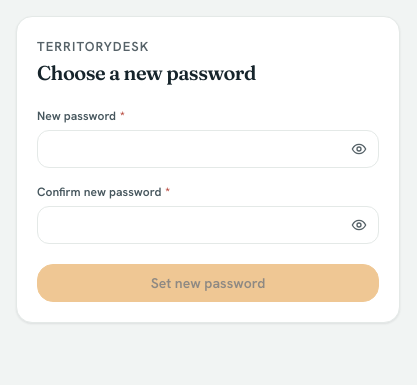
Test: N3C-15/C-70: reset confirm-password validates on blur + submit › N3C-15/C-70: the error clears while typing once the values agree again
This screenshot has width=417, height=385.
Type "correct-horse-battery" into the password field labelled "New password".
click(208, 149); type("correct-horse-battery")  # box [37,130,379,168]
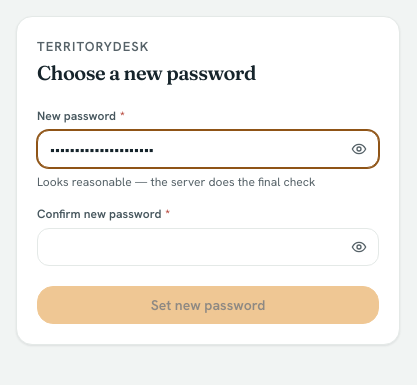
Type "correct-horse" into the password field labelled "Confirm new password".
click(208, 247); type("correct-horse")  # box [37,228,379,266]
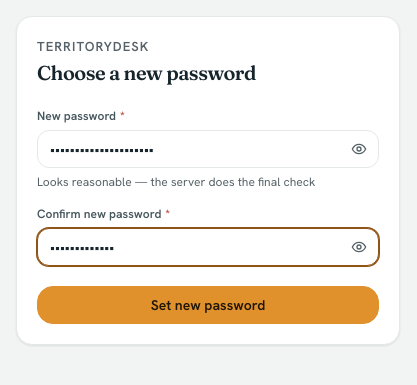
Leave the password field labelled "Confirm new password", box [37,228,379,266]
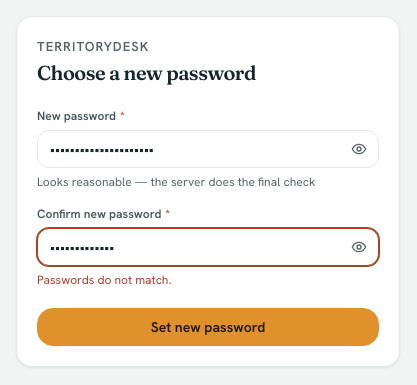
Expected: the text "Passwords do not match." is shown, [37,272,171,288]
Type "-battery" into the password field labelled "Confirm new password".
click(208, 247); type("-battery")  # box [37,228,379,266]
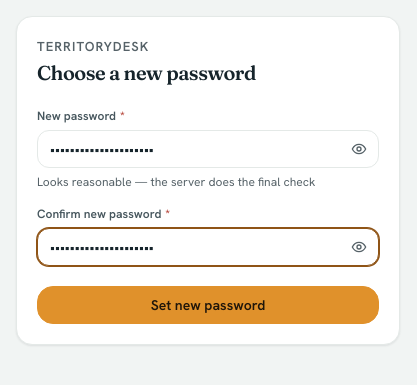
Expected: the text "Passwords do not match." is gone
